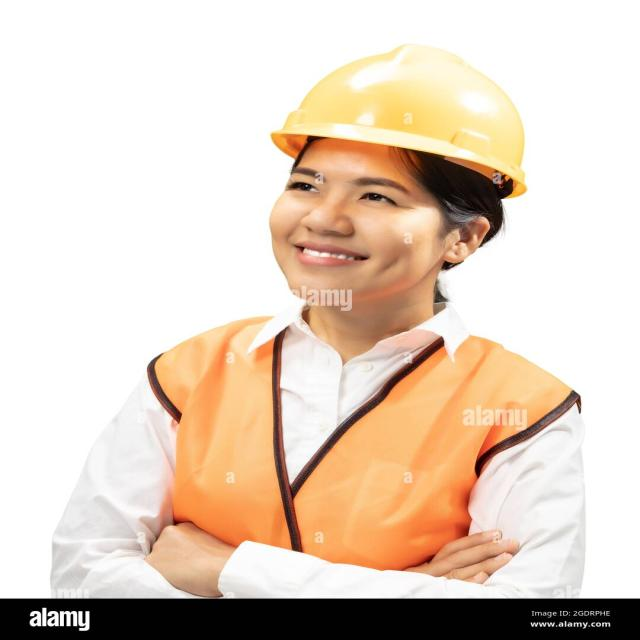helmet: (266, 39, 536, 200)
no-goggles: (260, 152, 482, 236)
vest: (135, 299, 583, 566)
